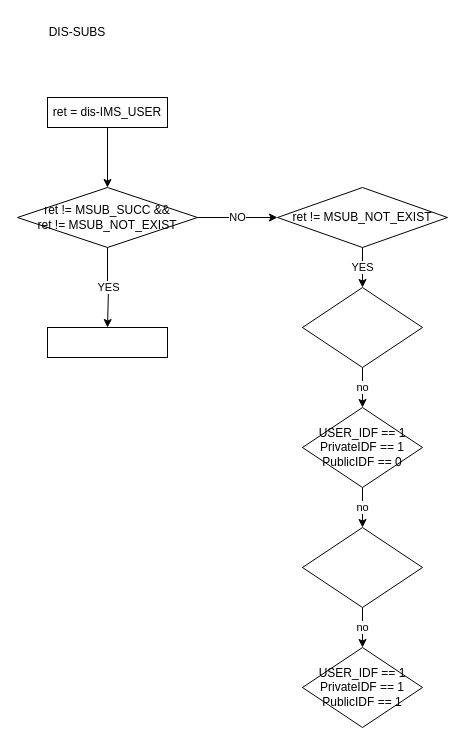
Some shapes in this 465 by 745 pixel diagram are drawn without their labels. Here are the shapes that lost their labels. From the top down, the centre of each, then its label:
point 107,342: DIS_PLAY FAIL
point 362,327: USER_IDF == 1 PrivateIDF == 0 PublicIDF == 0
point 362,567: USER_IDF == 1 PrivateIDF == 0 PublicIDF == 1
